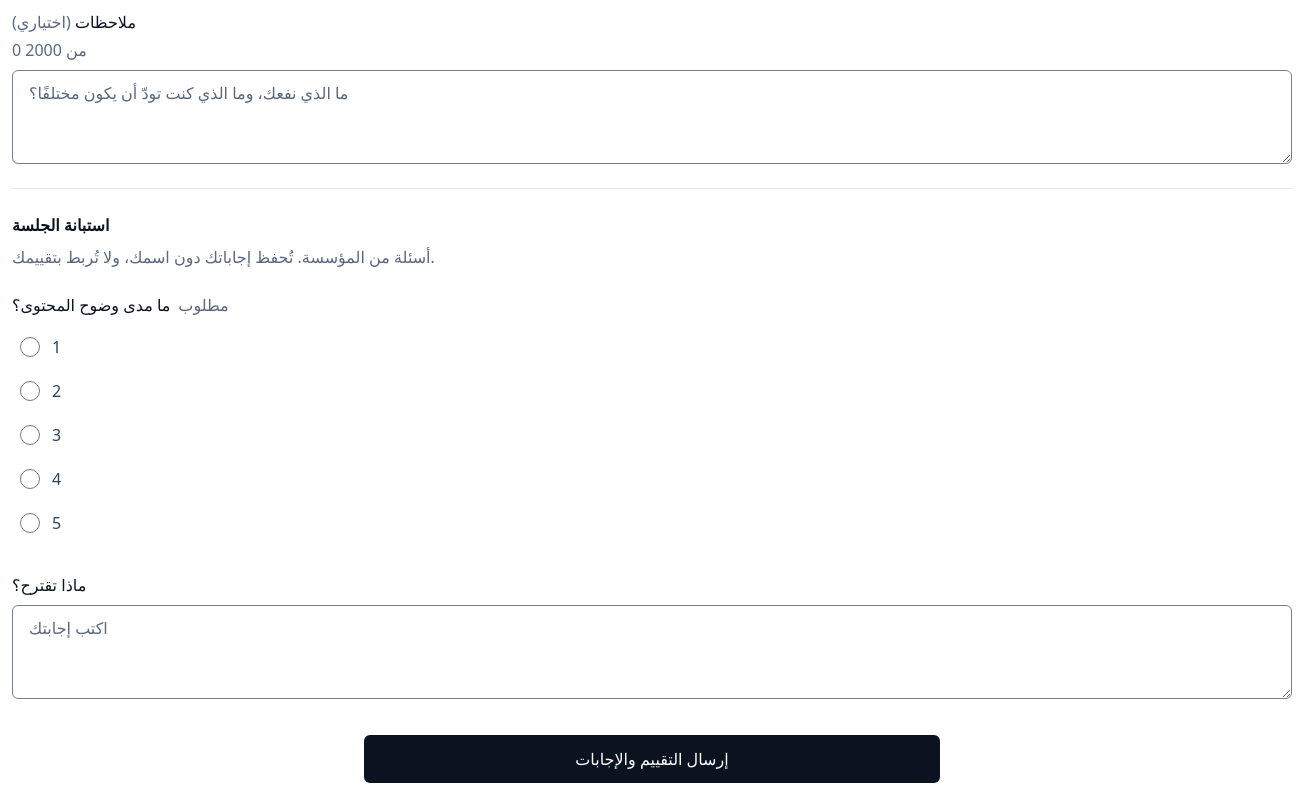
Scenario: RateForm when the survey is refused and the rating is not › ★ keeps every value the member had already given — the stars, the comment and the answered question
The width and height of the screenshot is (1304, 799).
(page scrolled)
Click the button "إرسال التقييم والإجابات": (652, 759) [364,735,940,783]
(page scrolled)
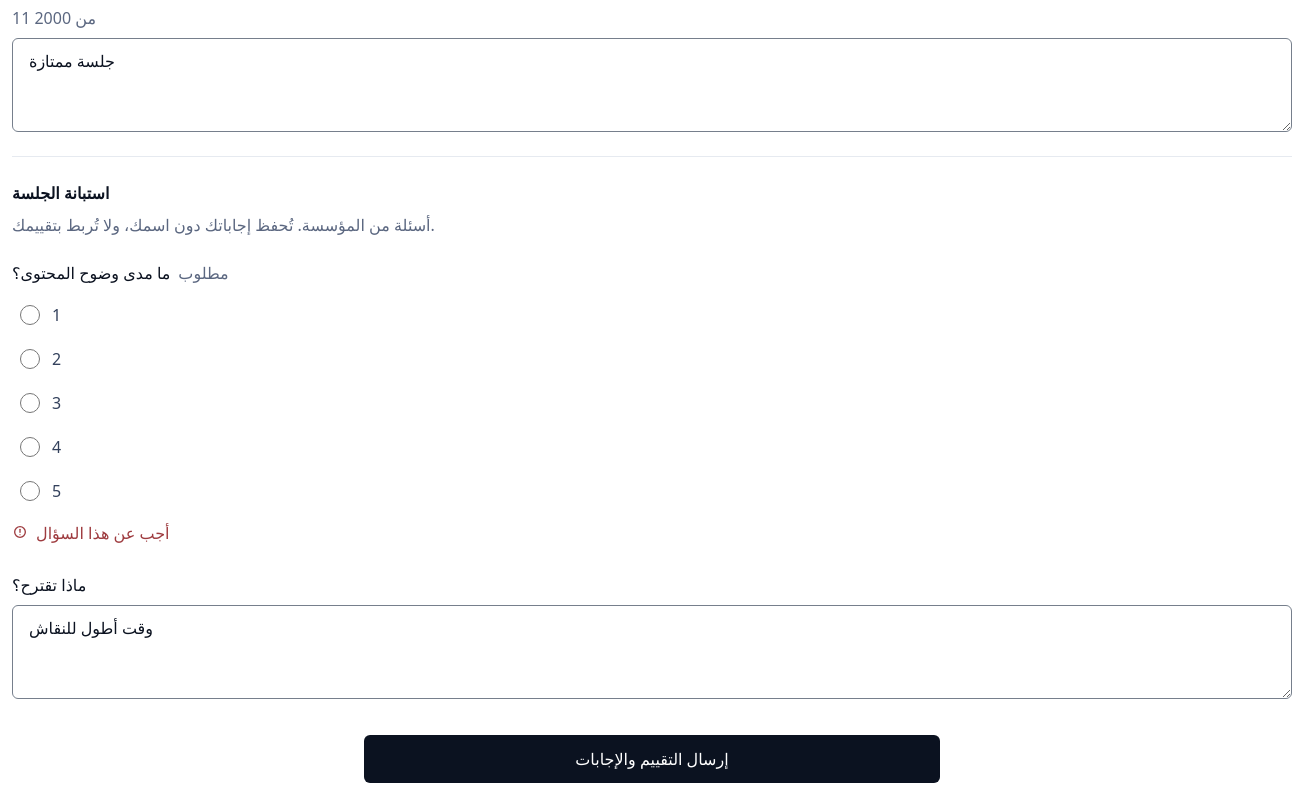
Expected: the text box labelled "ملاحظات (اختياري)" holds "جلسة ممتازة", [12,38,1292,132]
Expected: the text box labelled "ماذا تقترح؟" holds "وقت أطول للنقاش", [12,605,1292,699]
